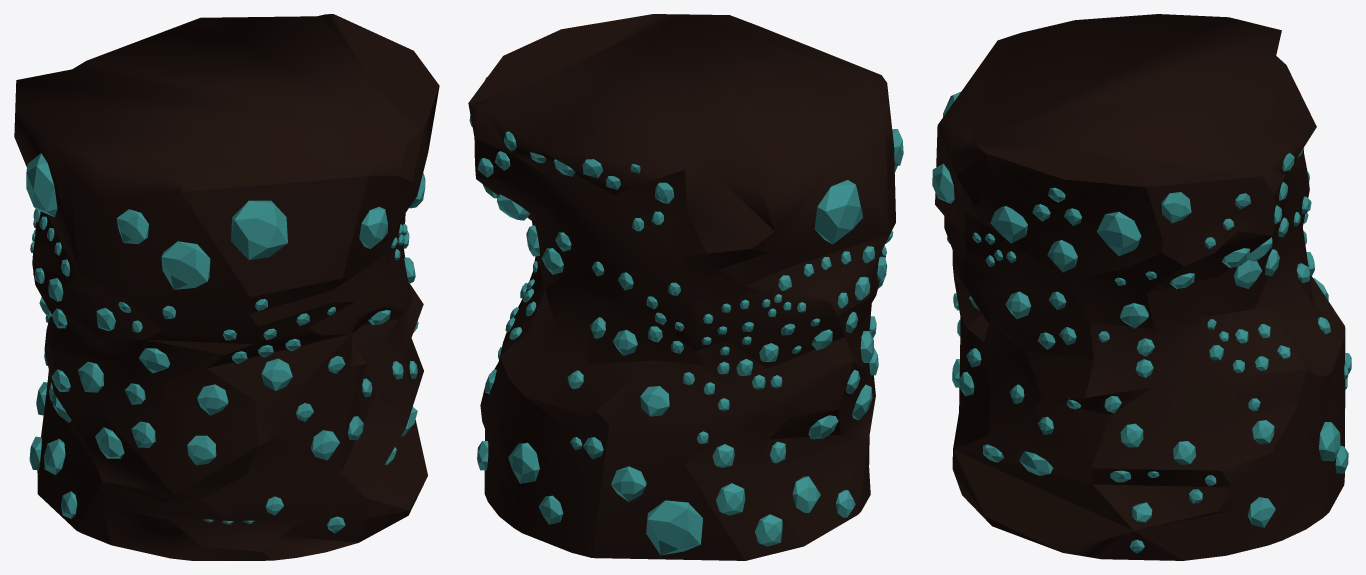
The model's file is Gem_7_2.fbx.
The picture shows the model from 3 angles, left to right: view 1: azimuth 30°, elevation 25°; view 2: azimuth 150°, elevation 25°; view 3: azimuth 270°, elevation 25°; orthographic projection. The views are drawn at different scales.
Visible parts, largest first — view 1: Rock_7_2, Vert.402, Vert.404, Vert.401, Vert.403, Vert.405, Vert.516, Vert.515, Vert.415, Vert.417, Vert.412, Vert.513 (+2 smaller); view 2: Rock_7_2, Vert.423, Vert.401, Vert.376, Vert.394, Vert.449, Vert.400, Vert.418, Vert.450; view 3: Rock_7_2, Vert.390, Vert.389, Vert.483, Vert.376, Vert.388, Vert.403, Vert.377, Vert.375, Vert.382, Vert.384.
Part boxes in pixels (<box>): Rock_7_2: <box>14,14,439,560</box>; Vert.402: <box>231,200,287,259</box>; Vert.404: <box>161,241,210,289</box>; Vert.401: <box>26,153,57,217</box>; Vert.403: <box>359,206,387,248</box>; Vert.405: <box>116,209,148,244</box>; Vert.516: <box>261,358,292,391</box>; Vert.515: <box>197,384,228,415</box>; Vert.415: <box>187,435,216,465</box>; Vert.417: <box>95,427,124,458</box>; Vert.412: <box>310,430,339,460</box>; Vert.513: <box>78,362,103,392</box>; Rock_7_2: <box>468,14,895,560</box>; Vert.423: <box>646,500,702,555</box>; Vert.401: <box>814,180,863,244</box>; Vert.376: <box>508,442,539,483</box>; Vert.394: <box>611,466,646,501</box>; Vert.449: <box>716,483,745,515</box>; Vert.400: <box>640,386,669,416</box>; Vert.418: <box>792,476,820,512</box>; Vert.450: <box>755,514,782,546</box>; Rock_7_2: <box>935,14,1345,560</box>; Vert.390: <box>1096,211,1141,256</box>; Vert.389: <box>990,206,1027,243</box>; Vert.483: <box>1161,192,1191,223</box>; Vert.376: <box>1319,422,1340,461</box>; Vert.388: <box>1047,240,1077,272</box>; Vert.403: <box>932,163,954,203</box>; Vert.377: <box>1247,497,1275,527</box>; Vert.375: <box>1234,260,1261,288</box>; Vert.382: <box>1019,451,1053,475</box>; Vert.384: <box>1120,303,1148,328</box>.
Size of the model in its own units: 1525 by 1500 by 1504.
